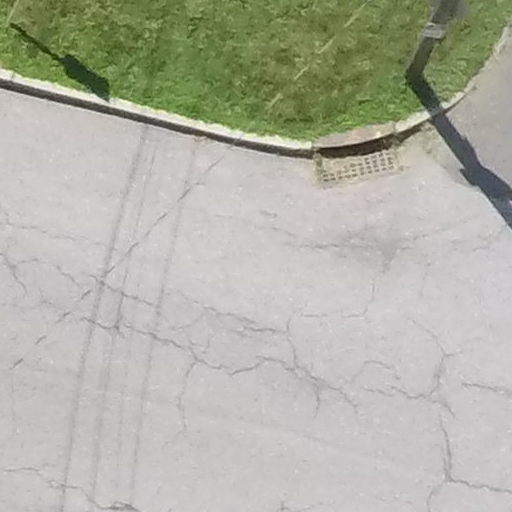drain: (300, 114, 427, 201)
